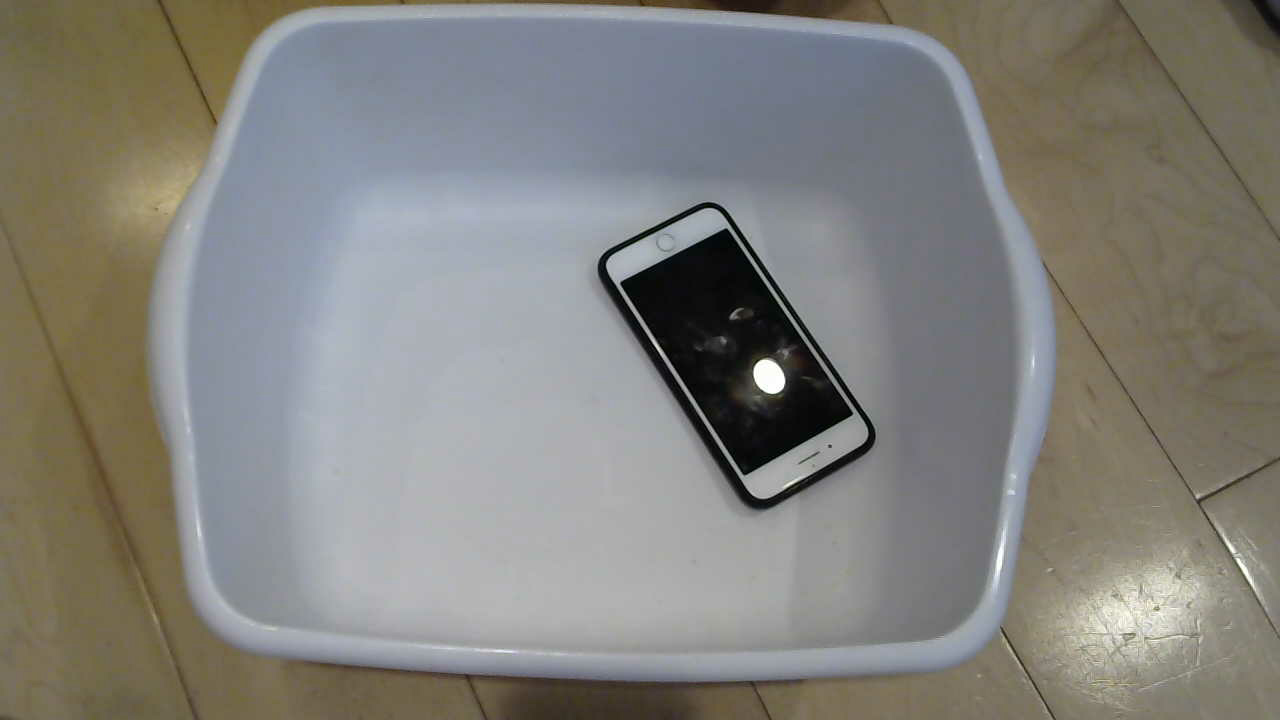phone: (577, 203, 888, 524)
